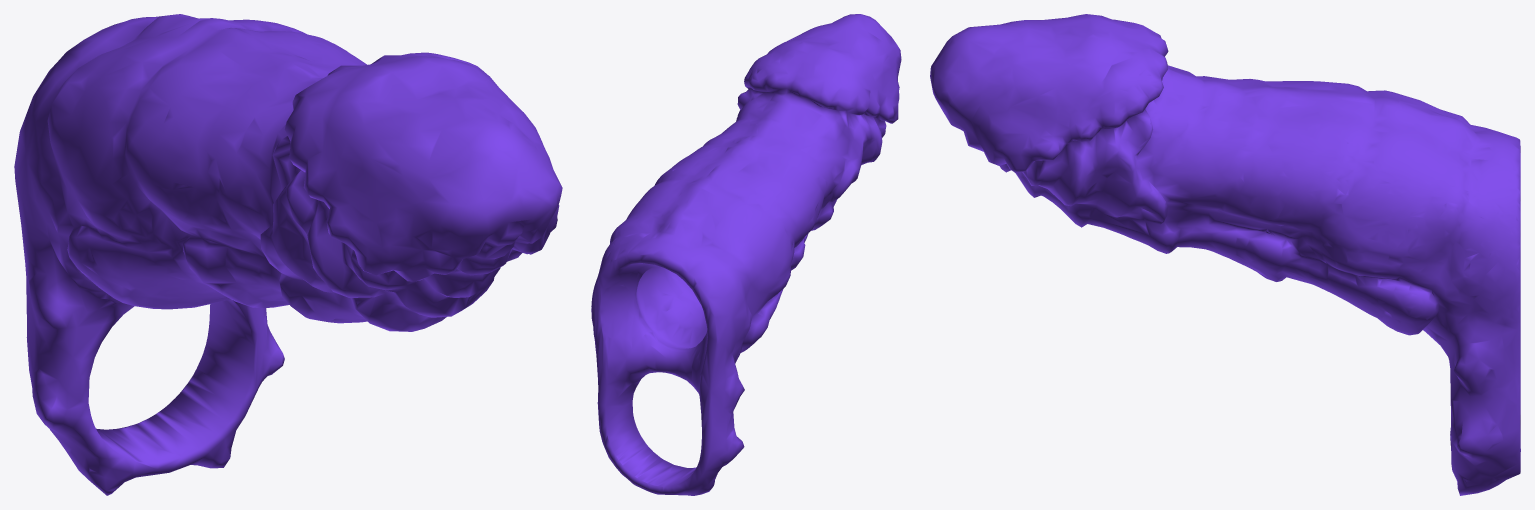
Rendered from main-ar.glb.
3 renders of one model, left to right at view 1: azimuth 30°, elevation 25°; view 2: azimuth 150°, elevation 25°; view 3: azimuth 270°, elevation 25°, orthographic. The views are drawn at different scales.
Size of the model in its own units: 0.0548 by 0.1186 by 0.1416.
